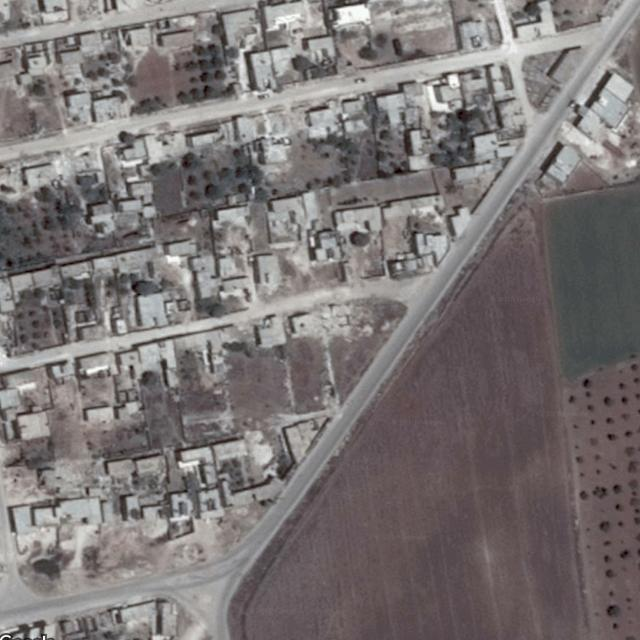damaged_building: (0, 143, 102, 201), (308, 301, 358, 342)
